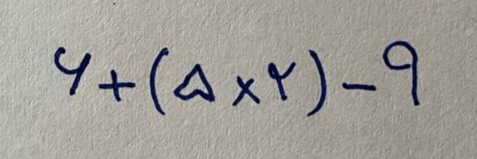character: (384, 41, 419, 107), (53, 48, 92, 96), (174, 61, 215, 102), (305, 50, 328, 116), (149, 46, 168, 116), (341, 82, 376, 118), (99, 69, 137, 102), (269, 62, 297, 101), (232, 75, 261, 107)
